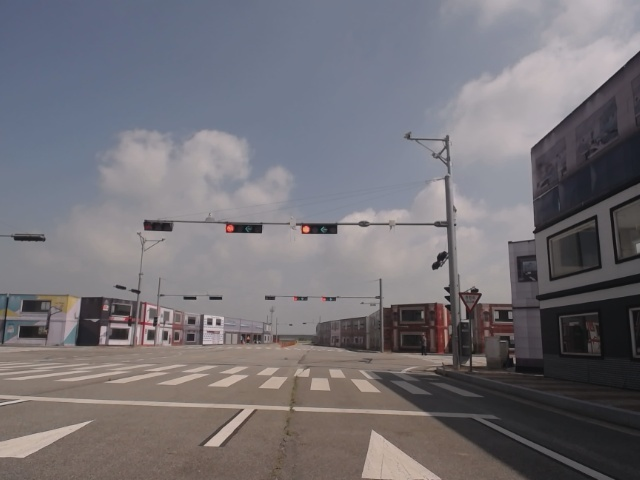left_green_4: (226, 222, 262, 233)
